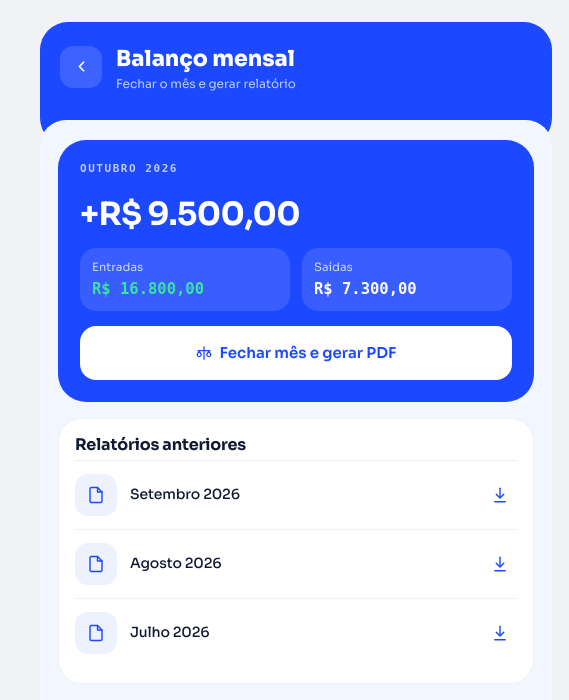
Test: Balanço mensal — relatórios anteriores › falha ao baixar mostra o aviso
The image size is (569, 700).
(page scrolled)
Click the button named "Baixar relatório de Julho 2026".
click(500, 633)  # box [483,616,517,650]
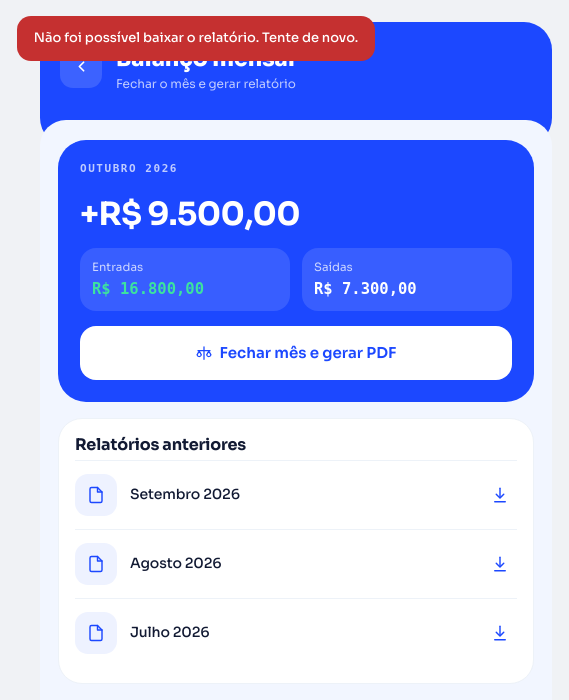
Check: the text "Não foi possível baixar o relatório. Tente de novo." is shown, box [17,16,375,61]
